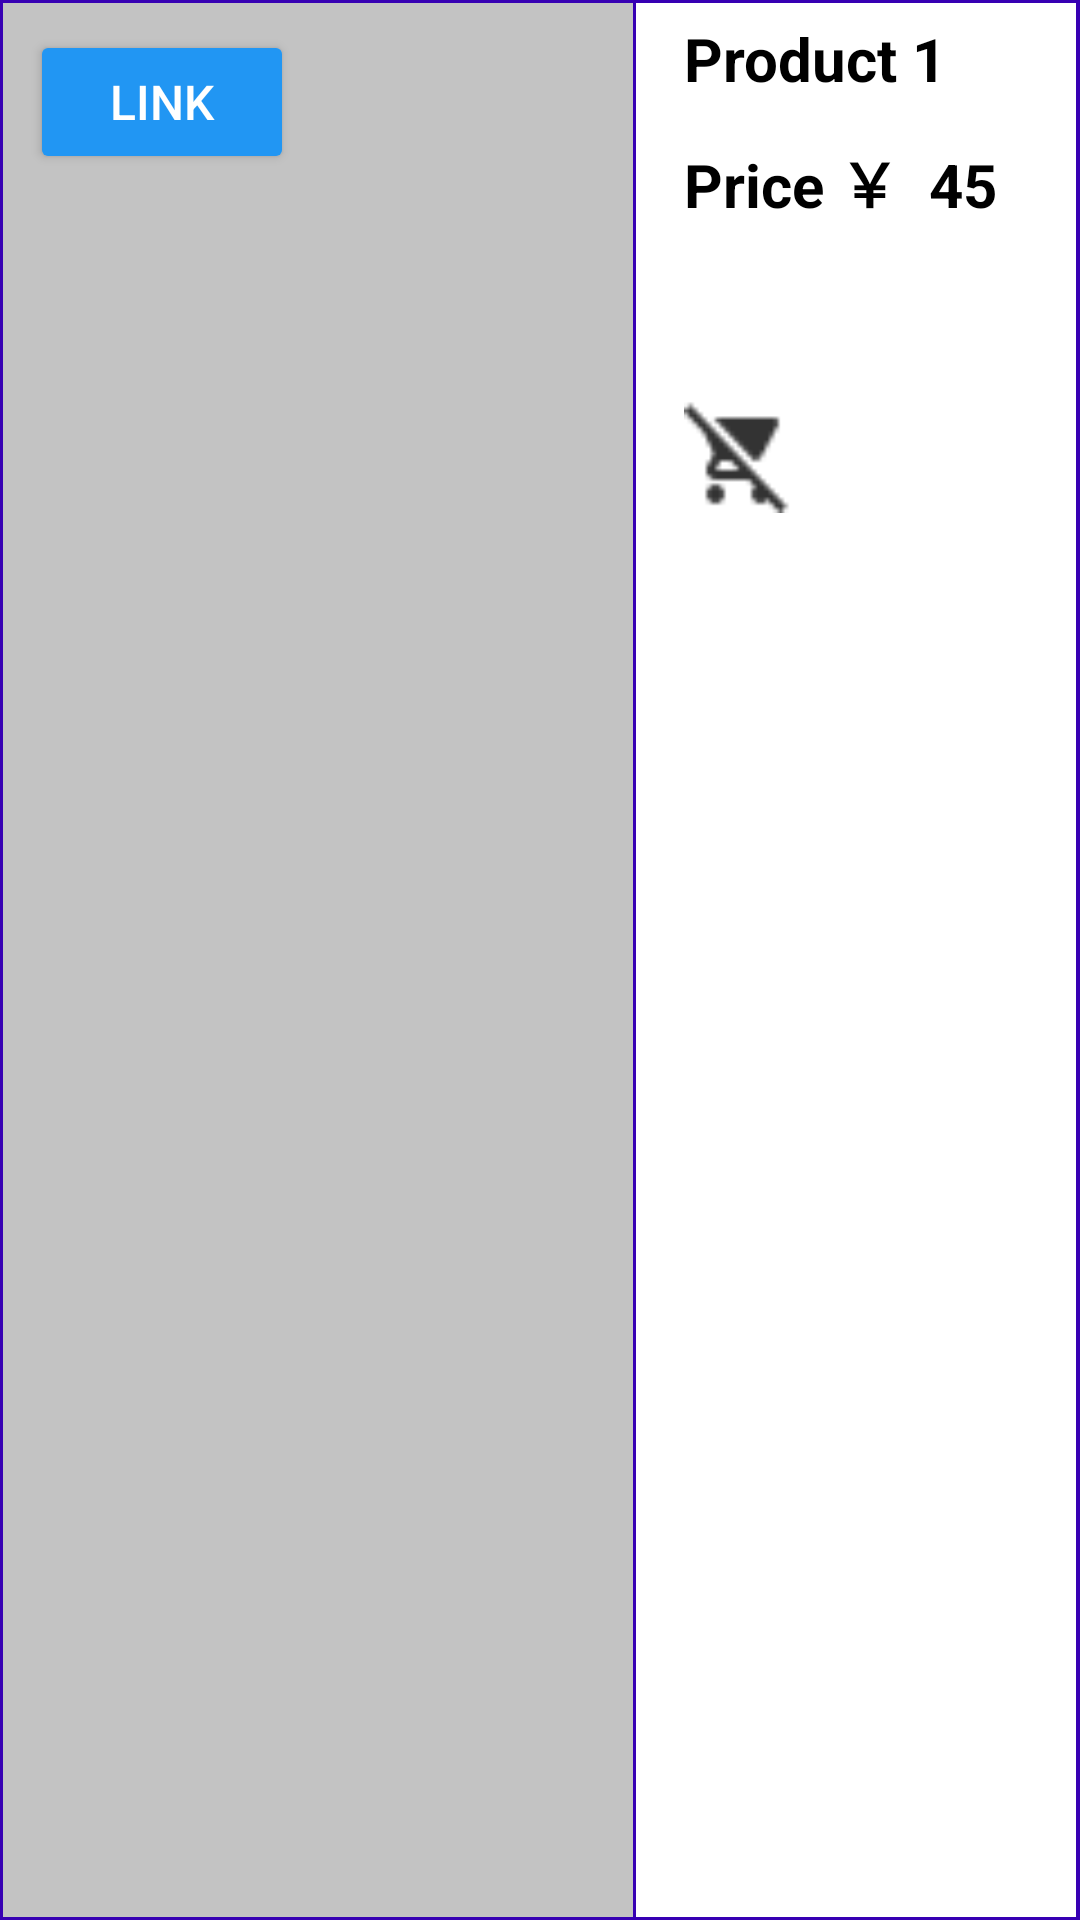

Where to tap for icons on this 1080px×1920px app screen, as (x,y):
delete cart: (736,458)
